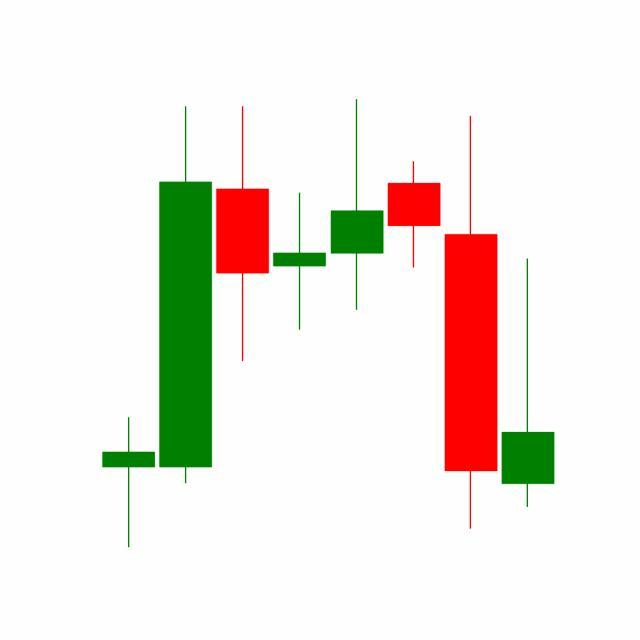Hikkake Pattern: (214, 100, 501, 535)
